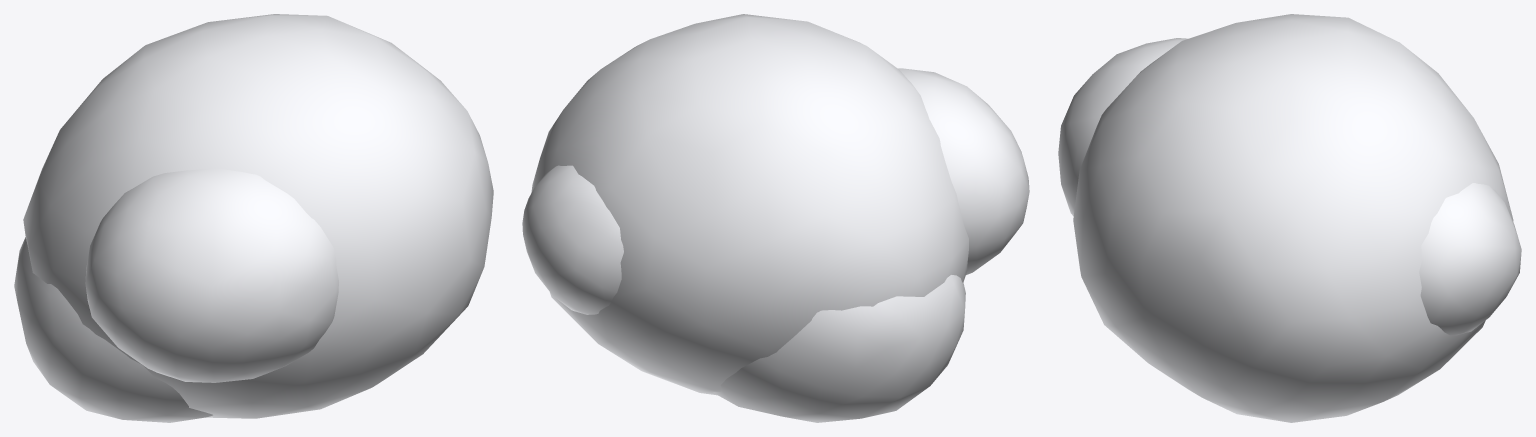
The model's file is Cloud3.obj.
3 renders of one model, left to right at view 1: azimuth 30°, elevation 25°; view 2: azimuth 150°, elevation 25°; view 3: azimuth 270°, elevation 25°, orthographic. The views are drawn at different scales.
Visible parts, largest first — view 1: Cloud3; view 2: Cloud3; view 3: Cloud3.
Part boxes in pixels (box(x1,y1,x2,y2)): Cloud3: box(14, 14, 493, 422); Cloud3: box(522, 14, 1029, 422); Cloud3: box(1058, 14, 1521, 422).
Bounding box in the file's own units: 1.43 × 1.06 × 1.33.
Materials: 1 (1 with a texture image).
